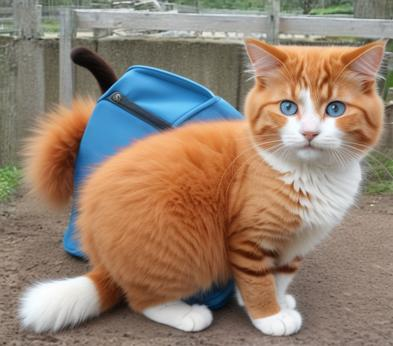cat: (15, 37, 390, 335)
